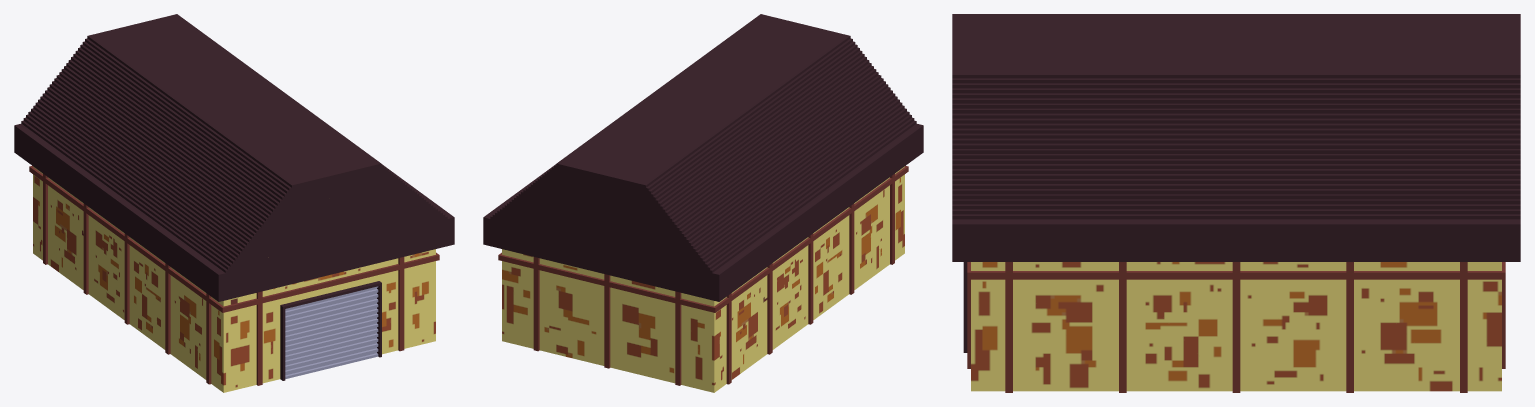
File: ArmyBase.fbx
3 renders of one model, left to right at view 1: azimuth 30°, elevation 25°; view 2: azimuth 150°, elevation 25°; view 3: azimuth 270°, elevation 25°, orthographic. The views are drawn at different scales.
Visible parts, largest first — view 1: Object; view 2: Object; view 3: Object.
Part boxes in pixels (bbox=[...]): Object: bbox=[14, 14, 454, 392]; Object: bbox=[483, 14, 923, 392]; Object: bbox=[952, 14, 1520, 392].
Bounding box in the file's own units: 100 × 80 × 150.
